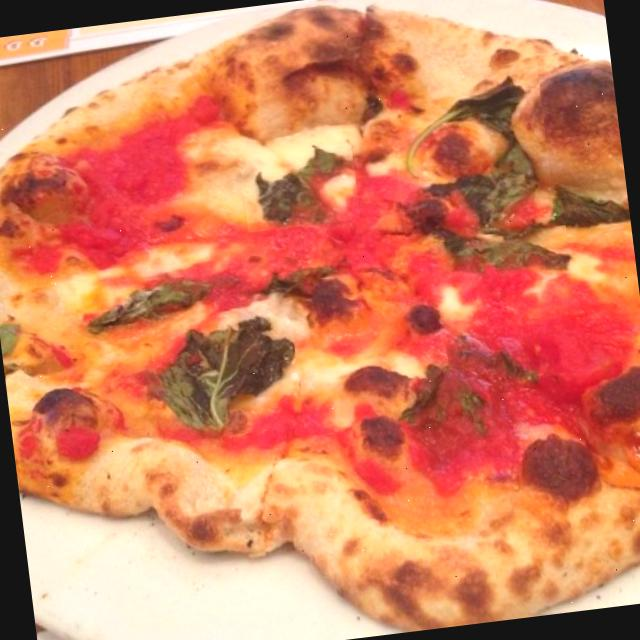basil: (386, 62, 556, 246), (148, 309, 304, 443), (240, 143, 360, 232), (70, 272, 217, 344), (460, 224, 572, 290), (524, 182, 632, 242), (382, 356, 455, 428), (484, 341, 542, 394), (454, 380, 496, 441), (0, 314, 36, 368)
pizza: (0, 6, 640, 630)
